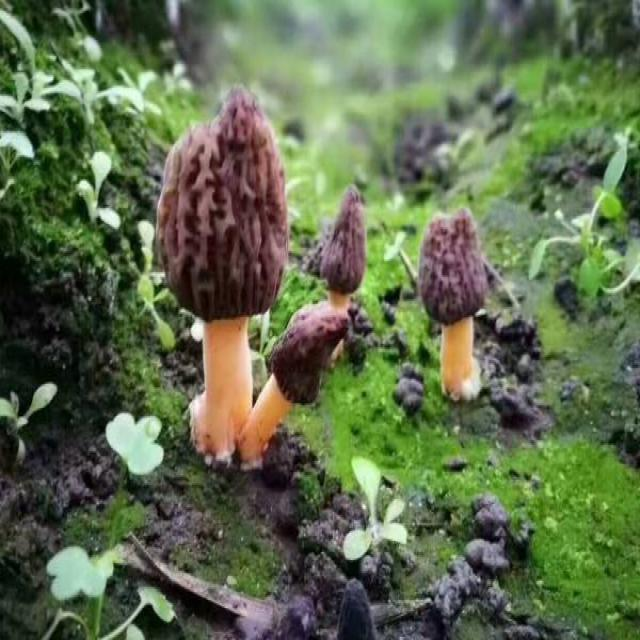Morchella esculenta: (154, 88, 347, 464), (412, 210, 487, 395), (323, 191, 364, 323)
